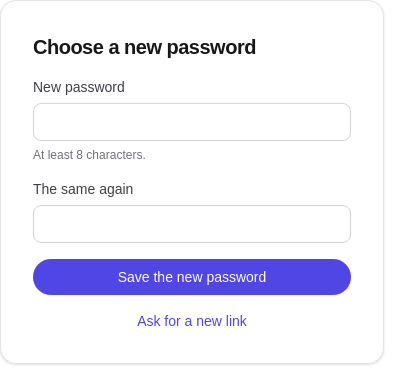
Scenario: choosing a new password with the link › sends the link's token with the new password, then takes the token out of the address
The width and height of the screenshot is (401, 382).
In the password field labelled "New password": [192, 122] box [33, 103, 351, 141], type "a new long password"
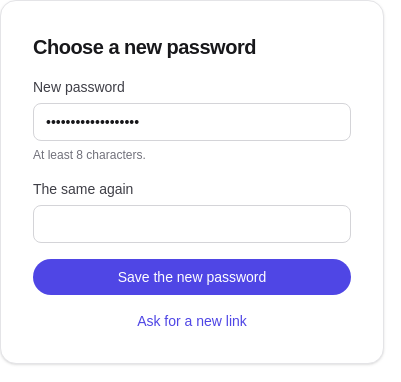
In the password field labelled "The same again": [192, 224] box [33, 205, 351, 243], type "a new long password"
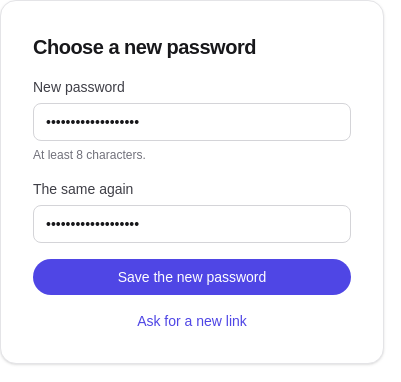
Click the button "Save the new password": [192, 277] box [33, 259, 351, 295]
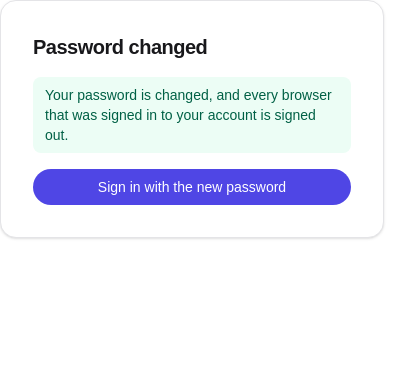
Now the heading "Password changed" is shown, box [33, 36, 207, 58]
